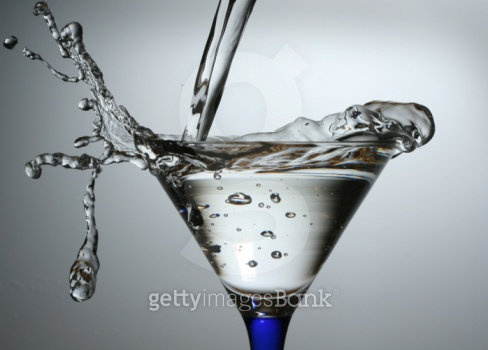glass of water: (130, 128, 395, 350)
